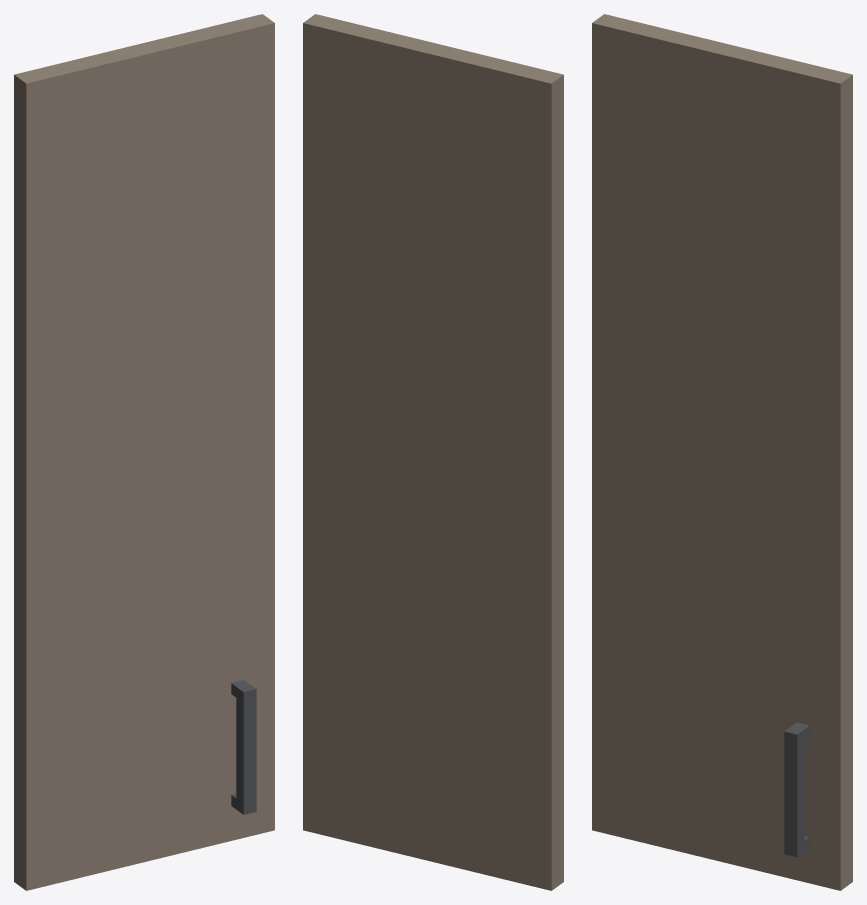
File: Door1_C5_14.fbx
3 renders of one model, left to right at view 1: azimuth 30°, elevation 25°; view 2: azimuth 150°, elevation 25°; view 3: azimuth 330°, elevation 25°, orthographic.
Parts seen in each view (by area): view 1: Door1_C5_14; view 2: Door1_C5_14; view 3: Door1_C5_14.
Part boxes in pixels (x1,y1,x2,y2): Door1_C5_14: (14, 14, 274, 890); Door1_C5_14: (303, 14, 563, 890); Door1_C5_14: (592, 14, 852, 890).
Bounding box in the file's own units: 29 × 90 × 5.03.
